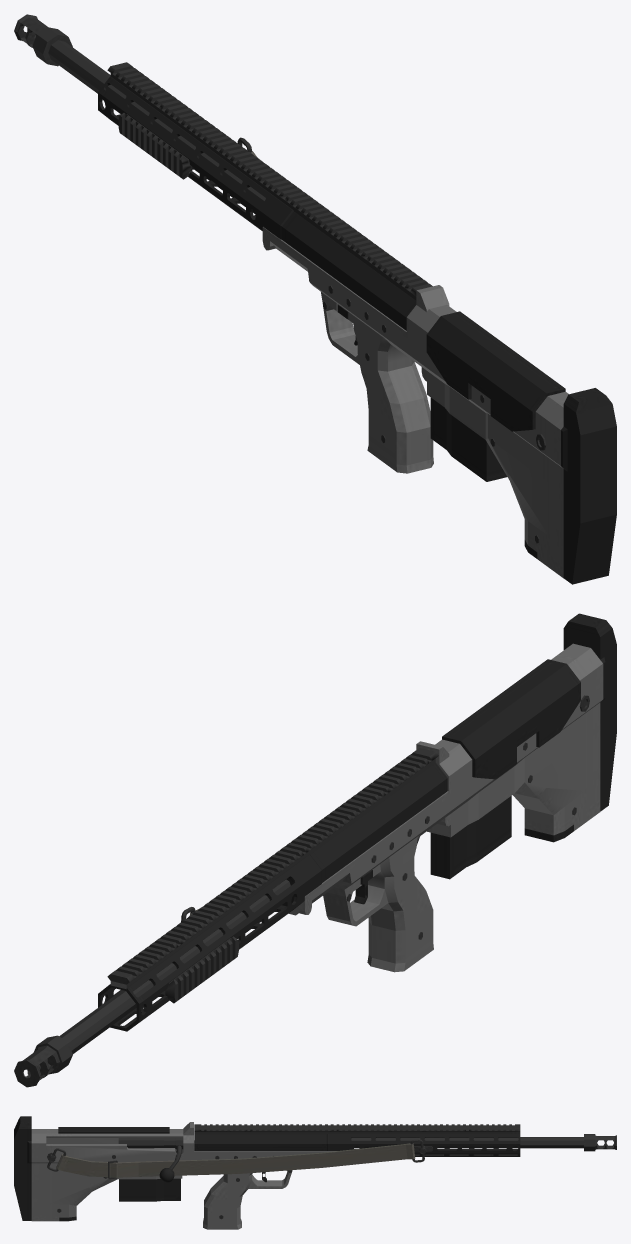
The model's file is sniper_bullpup.glb.
3 renders of one model, top to bottom at view 1: azimuth 30°, elevation 25°; view 2: azimuth 150°, elevation 25°; view 3: azimuth 270°, elevation 25°, orthographic. The views are drawn at different scales.
Visible parts, largest first — view 1: Body_Lower, Buttpad, Pistol_Grip, Cheekpad, Rail, Handguard, Body_Upper, Magazine, Barrel, Rail_Long_Very, Compensator; view 2: Body_Lower, Rail, Cheekpad, Pistol_Grip, Handguard, Body_Upper, Buttpad, Magazine, Barrel, Compensator, Rail_Long_Very; view 3: Body_Lower, Sling.001, Rail, Handguard, Pistol_Grip, Body_Upper, Buttpad, Barrel, Magazine, Cheekpad, Bolt, Compensator (+1 smaller).
Boxes of the visible parts, x1,y1,x2,y2 form: Body_Lower: [262, 227, 568, 578]; Buttpad: [561, 388, 616, 584]; Pistol_Grip: [321, 292, 433, 473]; Cheekpad: [426, 311, 565, 431]; Rail: [107, 62, 432, 300]; Handguard: [98, 76, 293, 239]; Body_Upper: [282, 212, 416, 330]; Magazine: [430, 397, 507, 481]; Barrel: [48, 40, 265, 203]; Rail_Long_Very: [118, 113, 192, 179]; Compensator: [14, 14, 72, 66]; Body_Lower: [289, 643, 603, 915]; Rail: [107, 748, 438, 989]; Cheekpad: [442, 659, 580, 779]; Pistol_Grip: [323, 834, 433, 972]; Handguard: [98, 854, 321, 1031]; Body_Upper: [310, 763, 447, 882]; Buttpad: [563, 613, 616, 811]; Magazine: [430, 796, 511, 879]; Barrel: [59, 879, 290, 1053]; Compensator: [14, 1035, 72, 1087]; Rail_Long_Very: [165, 936, 238, 1003]; Body_Lower: [31, 1122, 336, 1221]; Sling.001: [56, 1143, 415, 1177]; Rail: [194, 1124, 520, 1134]; Handguard: [326, 1134, 520, 1156]; Pistol_Grip: [203, 1170, 292, 1229]; Body_Upper: [194, 1134, 326, 1150]; Buttpad: [14, 1116, 31, 1220]; Barrel: [351, 1137, 583, 1148]; Magazine: [119, 1151, 180, 1201]; Cheekpad: [58, 1127, 169, 1133]; Bolt: [118, 1138, 183, 1149]; Compensator: [584, 1134, 616, 1151].
Bounding box in the file's own units: 0.0896 × 0.2109 × 1.1.
1 material, 1 textured.
